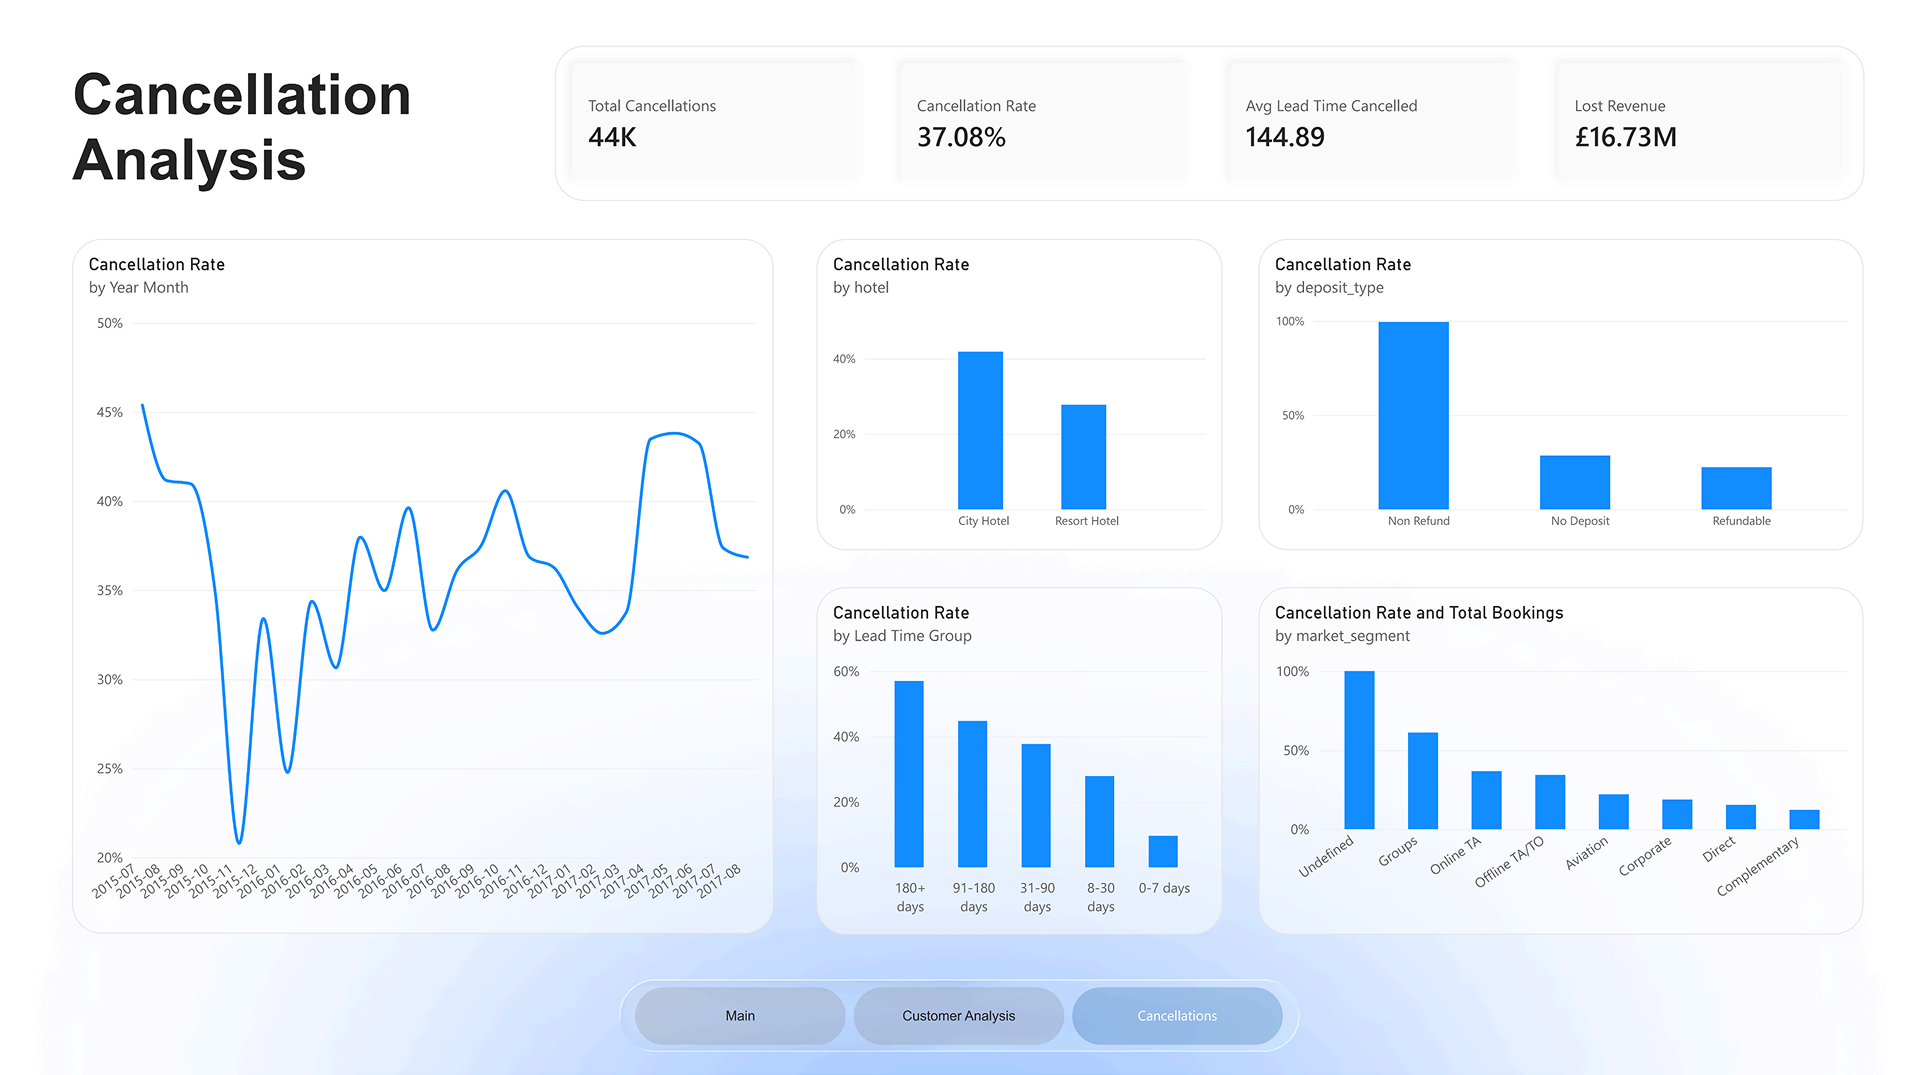

The page's visual inventory and layout, read from the dashboard file:
{"tool":"powerbi","page":{"name":"Cancellations","canvas":[1920,1080],"ordinal":2},"visuals":[{"type":"cardVisual","fields":{"Data":["public vw_hotel_analysis.Total Cancellations","public vw_hotel_analysis.Cancellation Rate","public vw_hotel_analysis.Avg Lead Time Cancelled","public vw_hotel_analysis.Lost Revenue"]},"box":[545,23.3,1341.7,158.3],"z":0},{"type":"textbox","box":[50,38.8,448.8,143.8],"z":1000},{"type":"lineChart","fields":{"Category":["Calendar.Year Month"],"Y":["public vw_hotel_analysis.Cancellation Rate"]},"box":[50,221.2,718.8,711.2],"z":2000},{"type":"clusteredColumnChart","fields":{"Category":["public vw_hotel_analysis.hotel"],"Y":["public vw_hotel_analysis.Cancellation Rate"]},"box":[812.5,221.2,416.2,318.8],"z":3000},{"type":"lineClusteredColumnComboChart","fields":{"Category":["public vw_hotel_analysis.Lead Time Group"],"Y":["public vw_hotel_analysis.Cancellation Rate"]},"box":[812.5,577.5,416.2,356.2],"z":4000},{"type":"clusteredColumnChart","fields":{"Category":["public vw_hotel_analysis.deposit_type"],"Y":["public vw_hotel_analysis.Cancellation Rate"]},"box":[1266.2,221.2,620,318.8],"z":5000},{"type":"clusteredColumnChart","fields":{"Category":["public vw_hotel_analysis.market_segment"],"Y":["public vw_hotel_analysis.Cancellation Rate"]},"box":[1266.2,577.5,620,356.2],"z":6000},{"type":"pageNavigator","box":[627,988,666,59],"z":8000}]}

Visuals, with their boxes in screenshot pixels (x1, y1, x2, y2), scaled from the page's 1920x1080 canvas onto the 1920x1075 screenshot:
cardVisual - public vw_hotel_analysis.Total Cancellations x public vw_hotel_analysis.Cancellation Rate: bbox=(545, 23, 1887, 181)
textbox: bbox=(50, 39, 499, 182)
lineChart - Calendar.Year Month x public vw_hotel_analysis.Cancellation Rate: bbox=(50, 220, 769, 928)
clusteredColumnChart - public vw_hotel_analysis.hotel x public vw_hotel_analysis.Cancellation Rate: bbox=(812, 220, 1229, 538)
lineClusteredColumnComboChart - public vw_hotel_analysis.Lead Time Group x public vw_hotel_analysis.Cancellation Rate: bbox=(812, 575, 1229, 929)
clusteredColumnChart - public vw_hotel_analysis.deposit_type x public vw_hotel_analysis.Cancellation Rate: bbox=(1266, 220, 1886, 538)
clusteredColumnChart - public vw_hotel_analysis.market_segment x public vw_hotel_analysis.Cancellation Rate: bbox=(1266, 575, 1886, 929)
pageNavigator: bbox=(627, 983, 1293, 1042)
